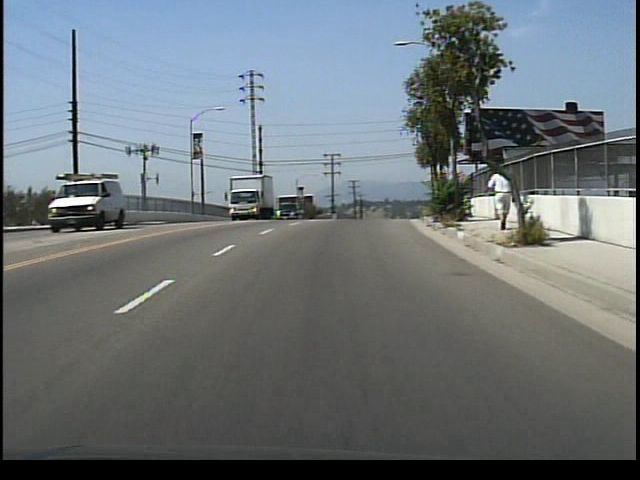person: (486, 160, 515, 233)
